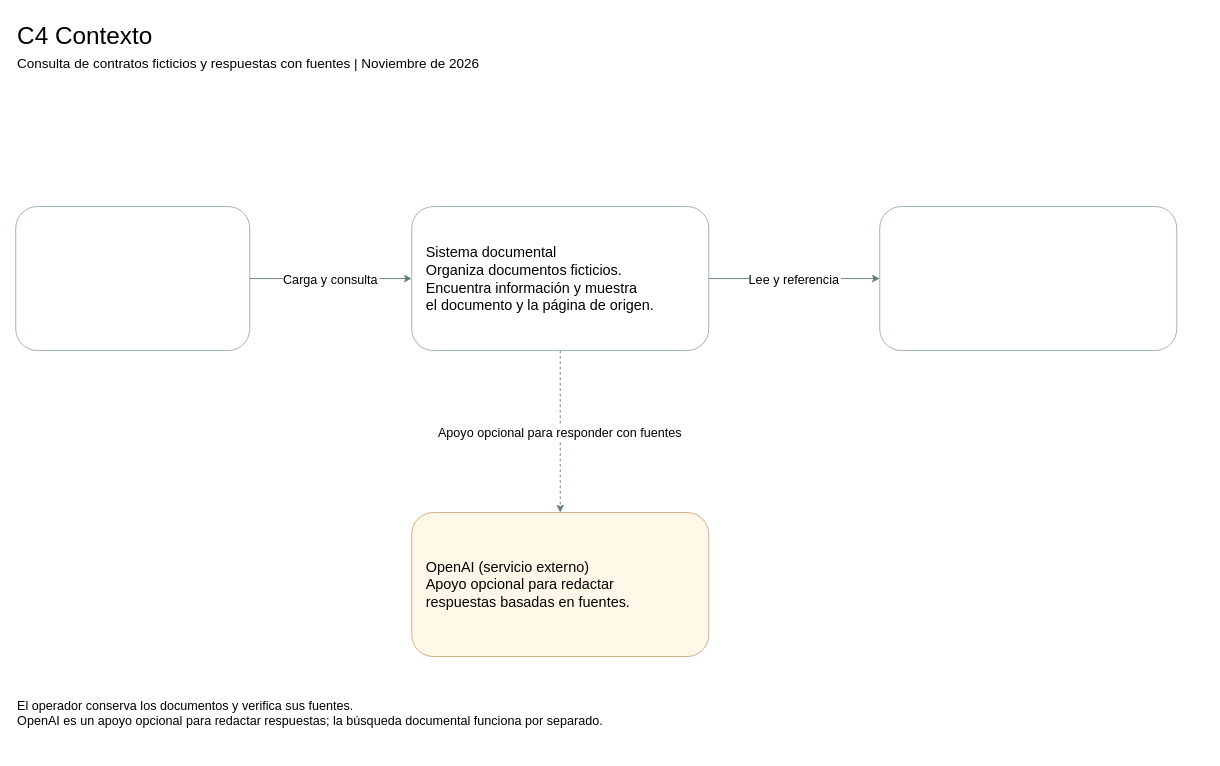
Image size: 1220x766. Some labels were removed from this diagram. The shapes that lost their labels are listed below. From the top down, each one's centre as x and y in pixels, then its label:
At point 132,278: "Operador inmobiliario Organiza contratos ficticios y consulta sus cláusulas.".
At point 1028,278: "Documentos ficticios Contratos y expedientes para la demostración.".
